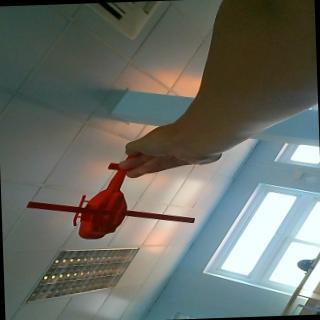Helicopter: (22, 160, 197, 242)
